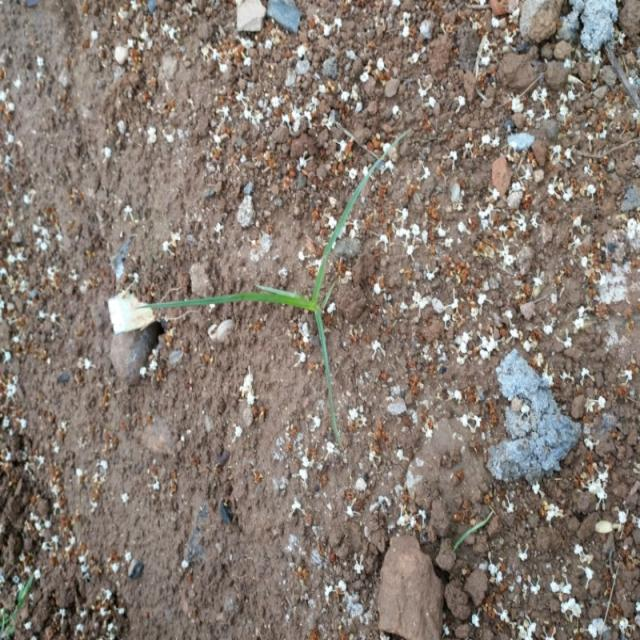sedge: (120, 205, 430, 420)
